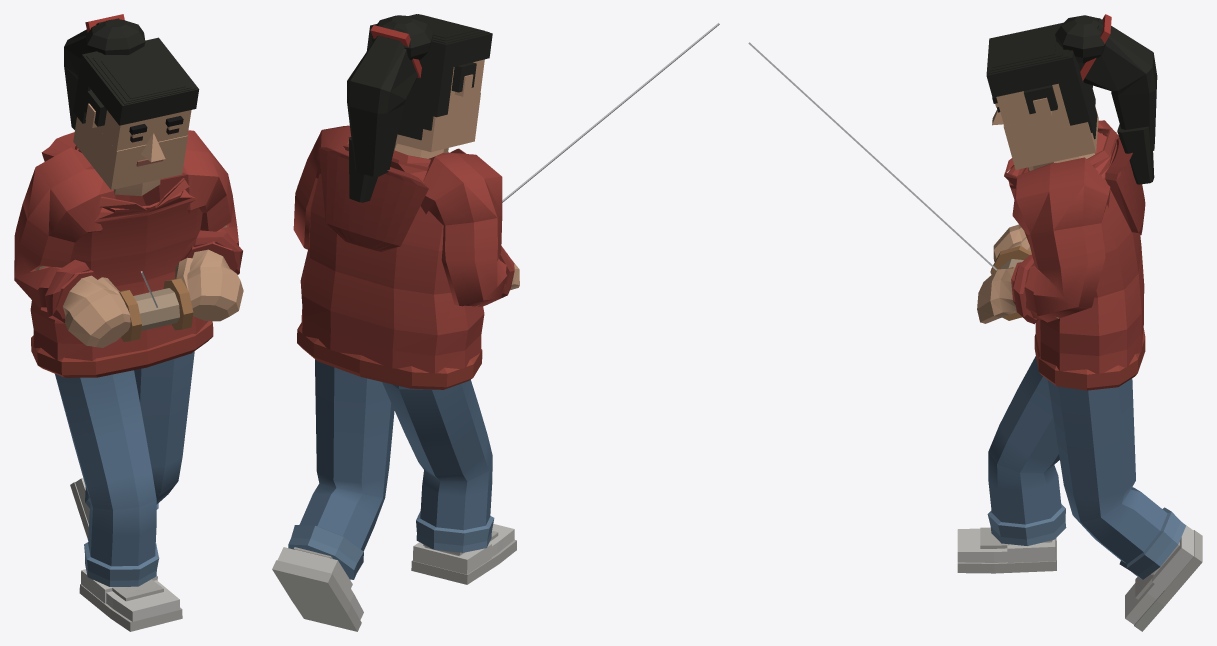
Rendered from kite-kid-0a7d70__walk5.glb.
3 renders of one model, left to right at view 1: azimuth 30°, elevation 25°; view 2: azimuth 150°, elevation 25°; view 3: azimuth 270°, elevation 25°, orthographic. The views are drawn at different scales.
Visible parts, largest first — view 1: kite-kid-0a7d70__walk5; view 2: kite-kid-0a7d70__walk5; view 3: kite-kid-0a7d70__walk5.
Boxes of the visible parts, x1,y1,x2,y2 form: kite-kid-0a7d70__walk5: [14, 14, 243, 631]; kite-kid-0a7d70__walk5: [272, 14, 719, 631]; kite-kid-0a7d70__walk5: [748, 14, 1202, 631].
Bounding box in the file's own units: 0.5677 × 1.24 × 0.8799.
